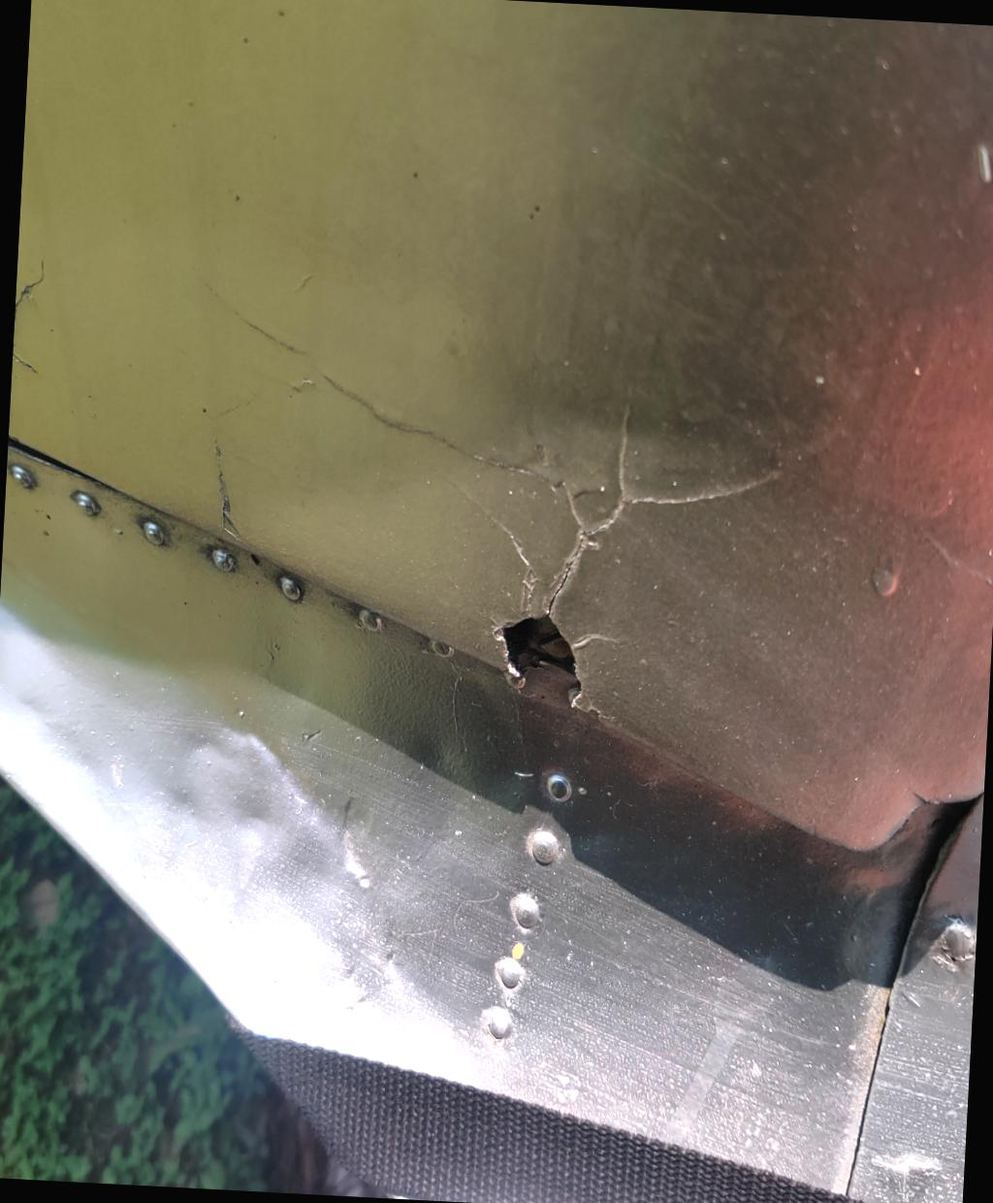crack: (457, 384, 817, 760)
